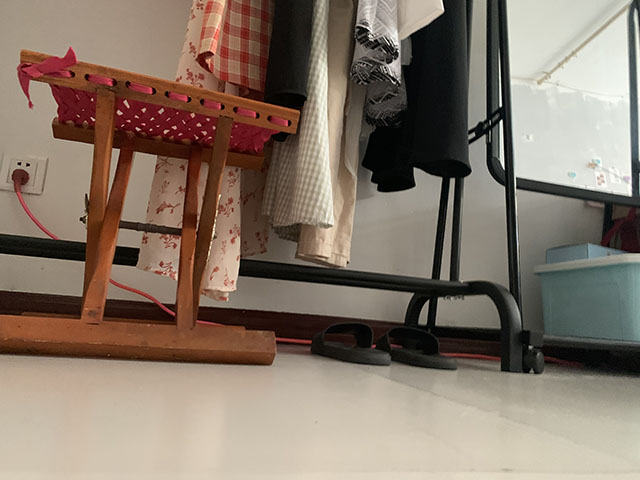slippers: (307, 321, 461, 371)
stool: (1, 44, 303, 366)
wire: (10, 168, 581, 365)
